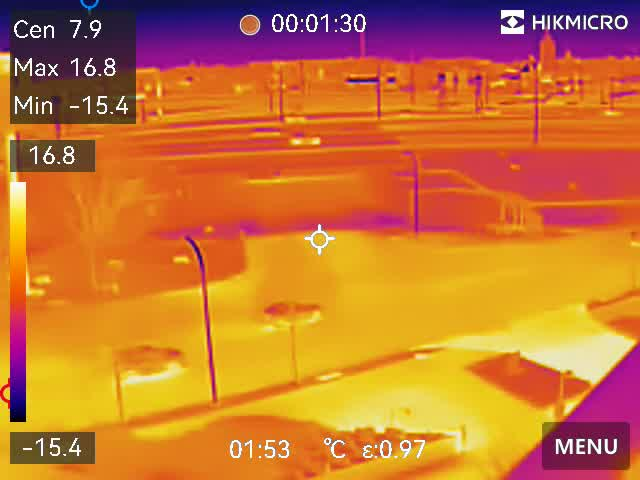smallCar: (115, 342, 188, 374), (259, 301, 323, 326), (286, 134, 327, 147)
vehicle: (245, 125, 285, 140), (475, 104, 503, 119), (281, 113, 309, 125), (598, 109, 625, 121)
